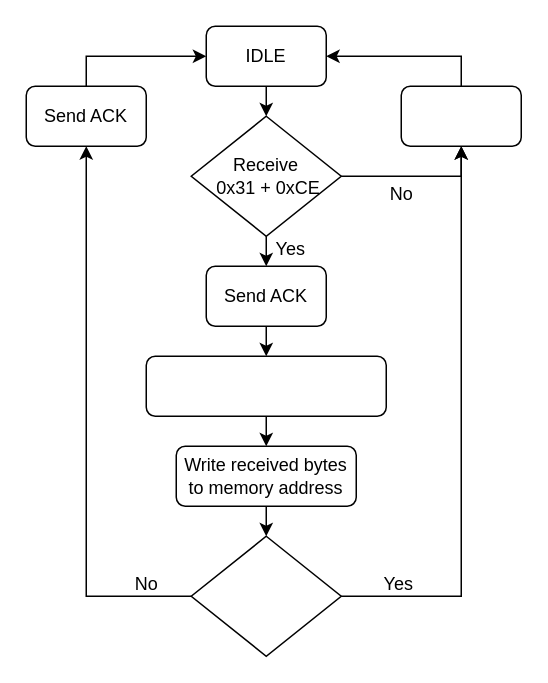
Image size: 548x683. Some labels were removed from this diagram. Each missing label, with the box of its shape:
Error during write?: (190, 535, 341, 656)
Receive write address and number of bytes to write: (145, 355, 386, 416)
Send NACK: (400, 85, 521, 146)
